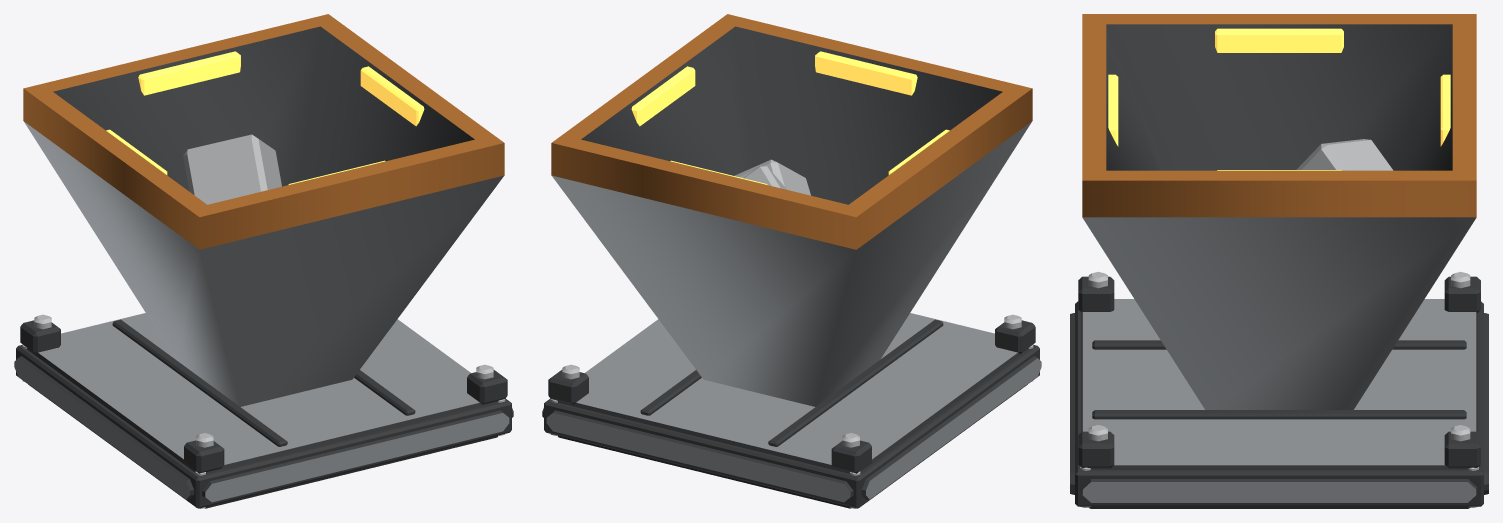
The model's file is R4X_SalvageOptimizer.fbx.
3 renders of one model, left to right at view 1: azimuth 30°, elevation 25°; view 2: azimuth 150°, elevation 25°; view 3: azimuth 270°, elevation 25°, orthographic. The views are drawn at different scales.
Visible parts, largest first — view 1: R4X_SalvageOptimizer_Body; view 2: R4X_SalvageOptimizer_Body; view 3: R4X_SalvageOptimizer_Body.
Boxes of the visible parts, box(x1,y1,x2,y2) form: R4X_SalvageOptimizer_Body: box(14, 14, 513, 508); R4X_SalvageOptimizer_Body: box(542, 14, 1041, 508); R4X_SalvageOptimizer_Body: box(1070, 14, 1488, 508).
Bounding box in the file's own units: 0.52 × 0.45 × 0.52.
